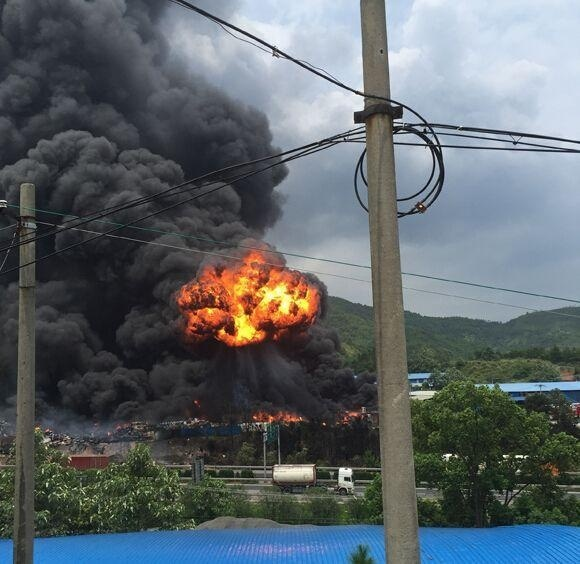fire: (179, 250, 316, 345), (251, 409, 302, 423)
